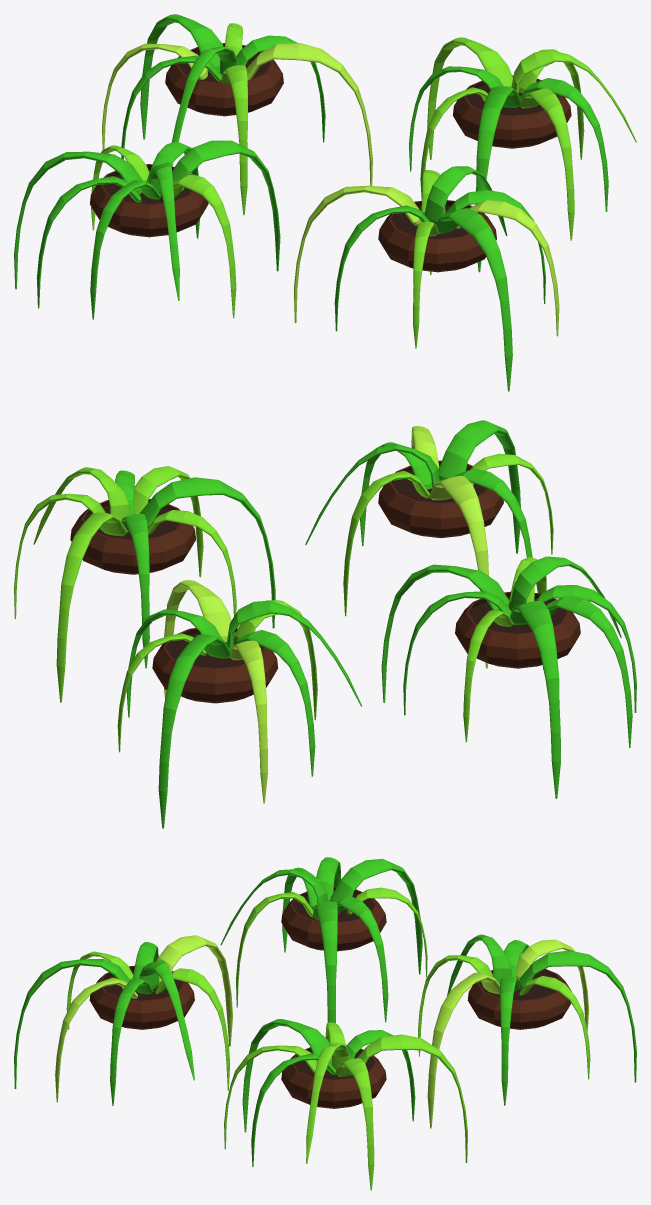
The model's file is studio_flowerpot.glb.
The picture shows the model from 3 angles, top to bottom: view 1: azimuth 30°, elevation 25°; view 2: azimuth 150°, elevation 25°; view 3: azimuth 270°, elevation 25°; orthographic projection. The views are drawn at different scales.
Visible parts, largest first — view 1: Cylinder.001, Cylinder.002, Cylinder.003, Cylinder, Cylinder.004, Cylinder.033, Cylinder.025, Cylinder.013, Cylinder.012, Cylinder.020, Cylinder.017, Cylinder.028 (+24 smaller); view 2: Cylinder.002, Cylinder.001, Cylinder, Cylinder.003, Cylinder.028, Cylinder.020, Cylinder.017, Cylinder.004, Cylinder.012, Cylinder.009, Cylinder.021, Cylinder.033 (+26 smaller); view 3: Cylinder.003, Cylinder.002, Cylinder, Cylinder.001, Cylinder.028, Cylinder.025, Cylinder.020, Cylinder.033, Cylinder.009, Cylinder.017, Cylinder.012, Cylinder.018 (+25 smaller).
Part boxes in pixels (box(x1,y1,x2,y2)): Cylinder.001: box(90, 164, 208, 237); Cylinder.002: box(378, 200, 496, 272); Cylinder.003: box(165, 43, 283, 116); Cylinder: box(453, 75, 571, 148); Cylinder.004: box(436, 208, 512, 391); Cylinder.033: box(172, 140, 280, 271); Cylinder.025: box(246, 43, 372, 193); Cylinder.013: box(519, 88, 574, 240); Cylinder.012: box(475, 86, 521, 272); Cylinder.020: box(140, 14, 223, 139); Cylinder.017: box(427, 37, 512, 159); Cylinder.028: box(14, 151, 143, 289); Cylinder.002: box(378, 460, 503, 538); Cylinder.001: box(455, 591, 580, 668); Cylinder: box(70, 499, 195, 574); Cylinder.003: box(152, 628, 278, 703); Cylinder.028: box(510, 601, 560, 798); Cylinder.020: box(158, 634, 230, 828); Cylinder.017: box(56, 512, 127, 702); Cylinder.004: box(438, 420, 520, 553); Cylinder.012: box(140, 477, 275, 628); Cylinder.009: box(429, 476, 488, 668); Cylinder.021: box(229, 640, 267, 803); Cylinder.033: box(381, 564, 509, 702); Cylinder.003: box(467, 969, 571, 1029); Cylinder.002: box(89, 965, 194, 1029); Cylinder: box(281, 1047, 386, 1108); Cylinder.001: box(281, 886, 386, 951); Cylinder.028: box(330, 859, 422, 974); Cylinder.025: box(427, 972, 499, 1128); Cylinder.020: box(519, 950, 636, 1082); Cylinder.033: box(312, 901, 337, 1023); Cylinder.009: box(156, 935, 232, 1046); Cylinder.017: box(357, 1034, 467, 1162); Cylinder.012: box(242, 1019, 331, 1132); Cylinder.018: box(336, 1058, 374, 1190).
Size of the model in its own units: 11.73 by 3 by 12.26.
